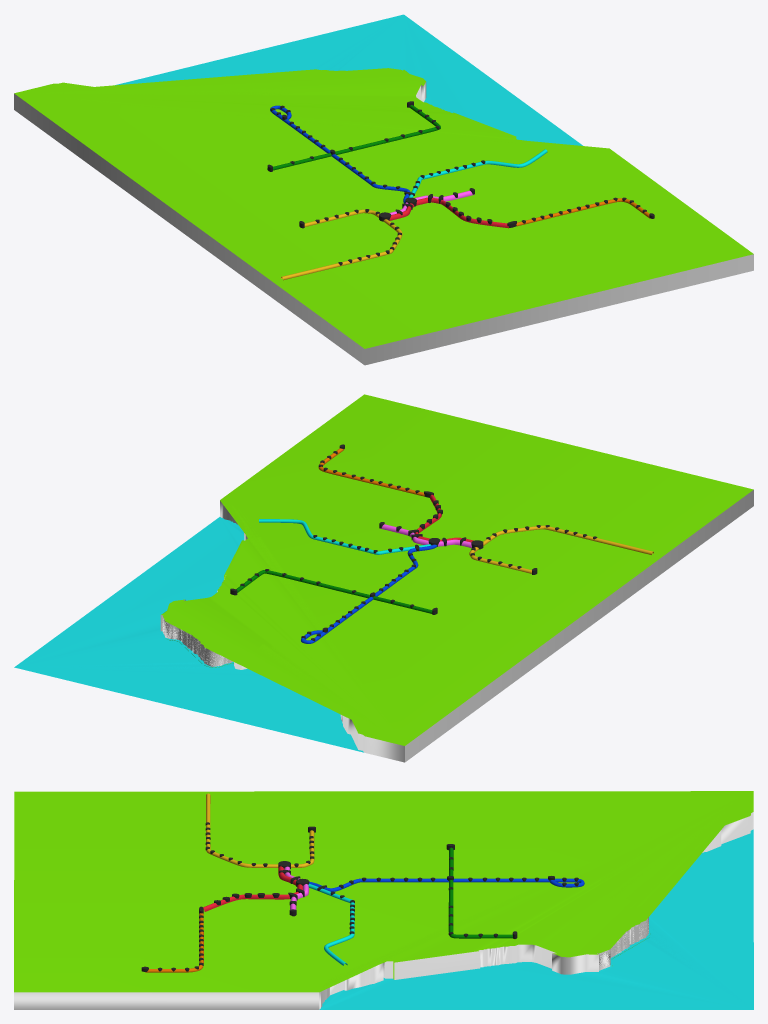
Rendered from metro.fbx.
The picture shows the model from 3 angles, top to bottom: view 1: azimuth 30°, elevation 25°; view 2: azimuth 150°, elevation 25°; view 3: azimuth 270°, elevation 25°; orthographic projection. The views are drawn at different scales.
Parts seen in each view (by area): view 1: mariometro, NurbsPath.005, NurbsPath.001, NurbsPath, NurbsPath.004; view 2: mariometro, NurbsPath.005, NurbsPath.001, NurbsPath, NurbsPath.004; view 3: mariometro, NurbsPath, NurbsPath.005, NurbsPath.001, NurbsPath.003, NurbsPath.004, NurbsPath.006.
Part boxes in pixels (<box>): mariometro: <box>14,14,753,365</box>; NurbsPath.005: <box>281,209,402,280</box>; NurbsPath.001: <box>267,105,440,170</box>; NurbsPath: <box>270,105,410,203</box>; NurbsPath.004: <box>408,149,547,197</box>; mariometro: <box>14,394,753,762</box>; NurbsPath.005: <box>469,525,653,573</box>; NurbsPath.001: <box>236,570,435,614</box>; NurbsPath: <box>301,544,437,643</box>; NurbsPath.004: <box>259,519,431,554</box>; mariometro: <box>14,791,753,1009</box>; NurbsPath: <box>309,878,584,891</box>; NurbsPath.005: <box>206,793,314,867</box>; NurbsPath.001: <box>448,847,512,938</box>; NurbsPath.003: <box>203,866,302,911</box>; NurbsPath.004: <box>308,883,354,965</box>; NurbsPath.006: <box>145,913,203,972</box>.
Size of the model in its own units: 4151 by 381 by 6448.
